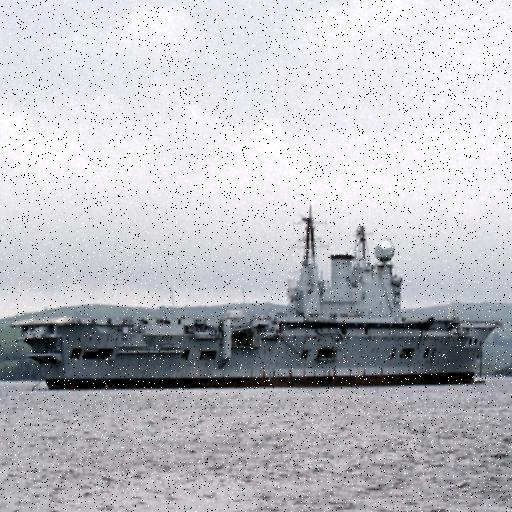Portanaves: (13, 195, 506, 396)
